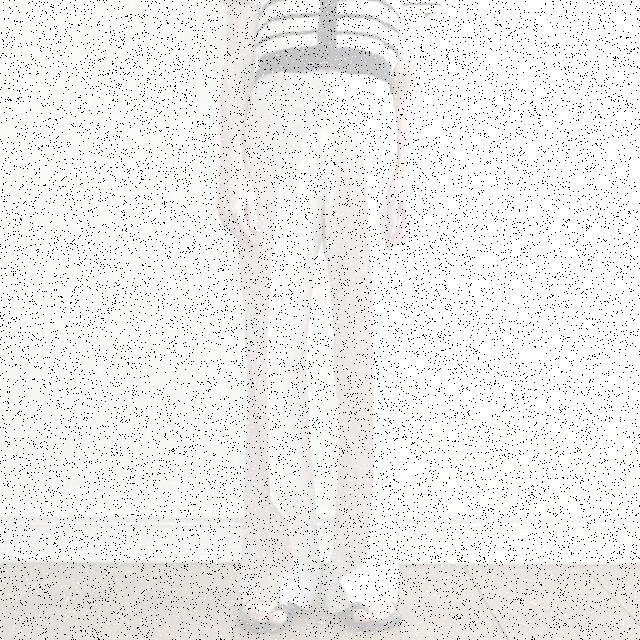Blouse_deep: (235, 73, 404, 618)
